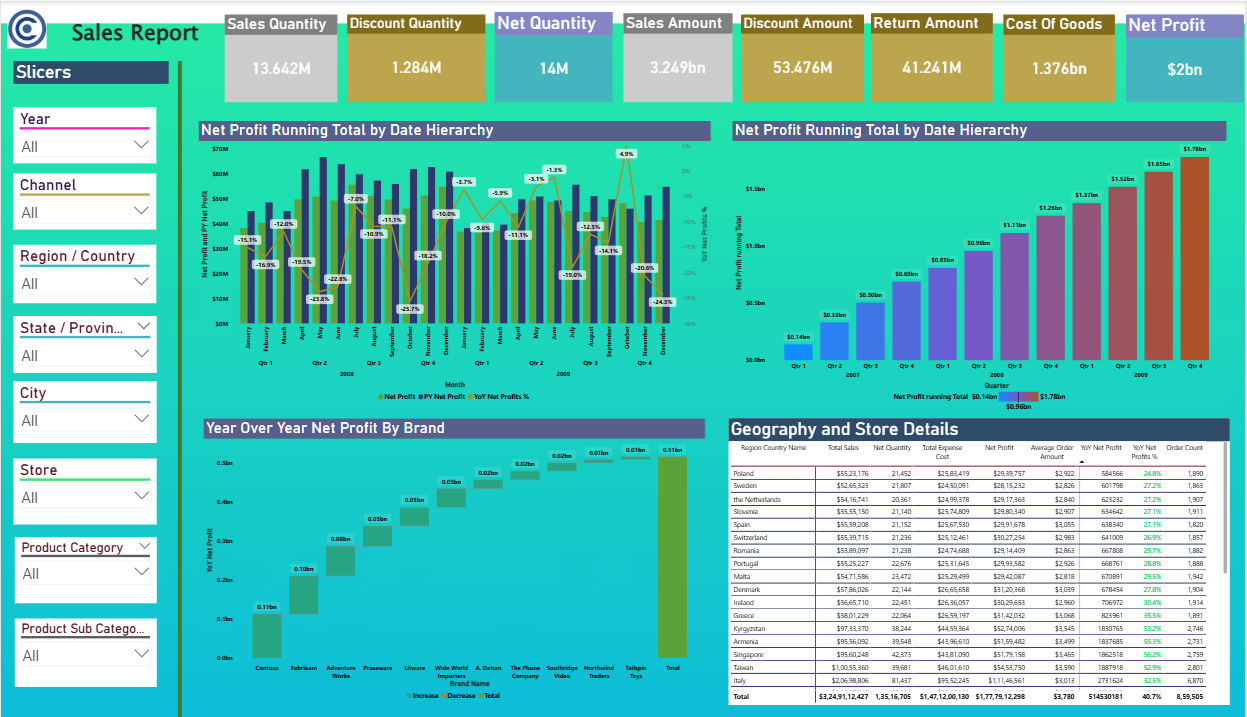

This screenshot's page, from the dashboard's own definition file:
{"tool":"powerbi","page":{"name":"Page 1","canvas":[2500,1500],"ordinal":0},"visuals":[{"type":"textbox","title":"Slicers","box":[24,120,312,1296],"z":0},{"type":"pivotTable","title":"Geography and Store Details","fields":{"Values":["DAX Measures.Total Sales","DAX Measures.Net Quantity","DAX Measures.Total Expense Cost","DAX Measures.Net Profit","DAX Measures.Average Order Amount","DAX Measures.YoY Net Profit","DAX Measures.YoY Net Profits %","DAX Measures.Order Count"],"Rows":["Geography.Geography Hierarchy.Continent Name","Geography.Geography Hierarchy.Region Country Name","Geography.Geography Hierarchy.State Province Name","Geography.Geography Hierarchy.City Name","Store.Store Name"]},"box":[1464,840,1008,576],"z":1000},{"type":"clusteredColumnChart","title":"Net Profit Running Total by Date Hierarchy","fields":{"Y":["DAX Measures.Net Profit Running Total"],"Category":["Calendar.Date.Variation.Date Hierarchy.Year","Calendar.Date.Variation.Date Hierarchy.Quarter","Calendar.Date.Variation.Date Hierarchy.Month","Calendar.Date.Variation.Date Hierarchy.Day"]},"box":[1469.9,242,993.6,585.9],"z":2000},{"type":"lineClusteredColumnComboChart","title":"Net Profit Running Total by Date Hierarchy","fields":{"Y":["DAX Measures.Net Profit","DAX Measures.PY Net Profit"],"Y2":["DAX Measures.YoY Net Profits %"],"Category":["Calendar.Date.Variation.Date Hierarchy.Year","Calendar.Date.Variation.Date Hierarchy.Quarter","Calendar.Date.Variation.Date Hierarchy.Month","Calendar.Date.Variation.Date Hierarchy.Day"]},"box":[397.4,242,1029.2,573.2],"z":3000},{"type":"waterfallChart","title":"Year Over Year Net Profit By Brand","fields":{"Category":["Product Master.Brand Name"],"Y":["DAX Measures.YoY Net Profit"]},"box":[408,840,1008,576],"z":4000},{"type":"image","box":[12.7,7.6,79,96.8],"z":5000},{"type":"textbox","box":[91.7,28,359.2,76.4],"z":6000},{"type":"card","title":"Sales Amount","fields":{"Values":["DAX Measures.Total Sales"]},"box":[1250.9,25.5,219.1,178.3],"z":7000},{"type":"card","title":"Discount Amount","fields":{"Values":["DAX Measures.Discount Amount"]},"box":[1487.8,28,247.1,175.8],"z":8000},{"type":"card","title":"Return Amount","fields":{"Values":["DAX Measures.Return Amount"]},"box":[1750.2,25.5,244.6,178.3],"z":9000},{"type":"card","title":"Cost Of Goods","fields":{"Values":["DAX Measures.Total Cost"]},"box":[2015.1,28,224.2,175.8],"z":10000},{"type":"card","title":"Net Profit","fields":{"Values":["DAX Measures.Net Profit"]},"box":[2262.2,28,236.9,175.8],"z":11000},{"type":"card","title":"Sales Quantity","fields":{"Values":["DAX Measures.Sales Quantity"]},"box":[450.9,28,226.7,175.8],"z":12000},{"type":"card","title":"Discount Quantity","fields":{"Values":["DAX Measures.Discount Quantity"]},"box":[695.5,28,277.7,175.8],"z":13000},{"type":"card","title":"Net Quantity","fields":{"Values":["DAX Measures.Net Quantity"]},"box":[993.6,22.9,236.9,180.9],"z":14000},{"type":"slicer","fields":{"Values":["Channel.Channel Name"]},"box":[26.1,345.7,287,113],"z":15000},{"type":"slicer","fields":{"Values":["Product Master.Product Subcategory Name"]},"box":[28,1240.7,285.3,137.6],"z":16000},{"type":"slicer","fields":{"Values":["Product Master.Product Category Name"]},"box":[28,1077.6,285.3,132.5],"z":17000},{"type":"slicer","fields":{"Values":["Geography.Region Country Name"]},"box":[26.1,491.3,287,117.4],"z":18000},{"type":"slicer","fields":{"Values":["Geography.State Province Name"]},"box":[25.5,634.3,287.9,114.6],"z":19000},{"type":"slicer","fields":{"Values":["Geography.City Name"]},"box":[25.5,764.3,287.9,124.8],"z":20000},{"type":"slicer","fields":{"Values":["Store.Store Name"]},"box":[25.5,919.7,287.9,132.5],"z":21000},{"type":"slicer","fields":{"Values":["Calendar.Date.Variation.Date Hierarchy.Year"]},"box":[26.1,213,287,113],"z":22000},{"type":"shape","box":[312,120,96,1320],"z":23000}]}

Visuals, with their boxes on the page's 2500x1500 design canvas (x1, y1, x2, y2). These are canvas units, not pixel positions in the 1247x717 screenshot, which may show the page scaled, cropped or inside an application window:
"Slicers" textbox: <region>24, 120, 336, 1416</region>
"Geography and Store Details" pivotTable: <region>1464, 840, 2472, 1416</region>
"Net Profit Running Total by Date Hierarchy" clusteredColumnChart: <region>1470, 242, 2464, 828</region>
"Net Profit Running Total by Date Hierarchy" lineClusteredColumnComboChart: <region>397, 242, 1427, 815</region>
"Year Over Year Net Profit By Brand" waterfallChart: <region>408, 840, 1416, 1416</region>
image: <region>13, 8, 92, 104</region>
textbox: <region>92, 28, 451, 104</region>
"Sales Amount" card: <region>1251, 26, 1470, 204</region>
"Discount Amount" card: <region>1488, 28, 1735, 204</region>
"Return Amount" card: <region>1750, 26, 1995, 204</region>
"Cost Of Goods" card: <region>2015, 28, 2239, 204</region>
"Net Profit" card: <region>2262, 28, 2499, 204</region>
"Sales Quantity" card: <region>451, 28, 678, 204</region>
"Discount Quantity" card: <region>696, 28, 973, 204</region>
"Net Quantity" card: <region>994, 23, 1230, 204</region>
slicer - Channel.Channel Name: <region>26, 346, 313, 459</region>
slicer - Product Master.Product Subcategory Name: <region>28, 1241, 313, 1378</region>
slicer - Product Master.Product Category Name: <region>28, 1078, 313, 1210</region>
slicer - Geography.Region Country Name: <region>26, 491, 313, 609</region>
slicer - Geography.State Province Name: <region>26, 634, 313, 749</region>
slicer - Geography.City Name: <region>26, 764, 313, 889</region>
slicer - Store.Store Name: <region>26, 920, 313, 1052</region>
slicer - Calendar.Date.Variation.Date Hierarchy.Year: <region>26, 213, 313, 326</region>
shape: <region>312, 120, 408, 1440</region>
